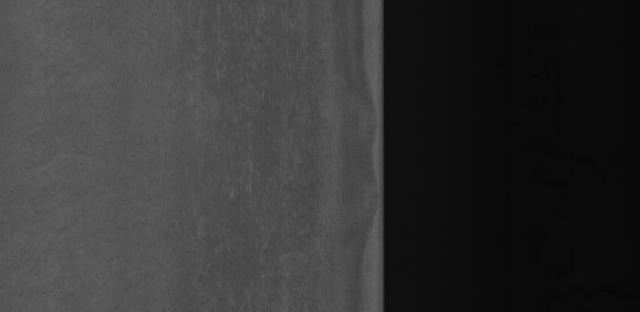silk_spot: (155, 74, 285, 201)
